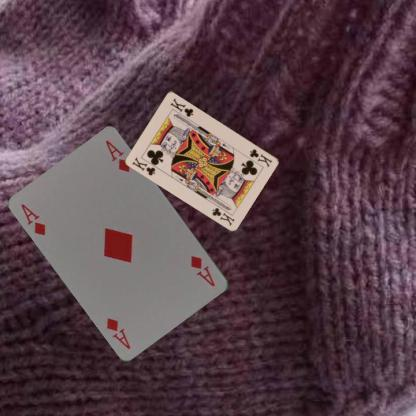Ad: (18, 201, 48, 237), (188, 253, 216, 288)
Kc: (248, 146, 274, 169), (130, 155, 156, 177)
